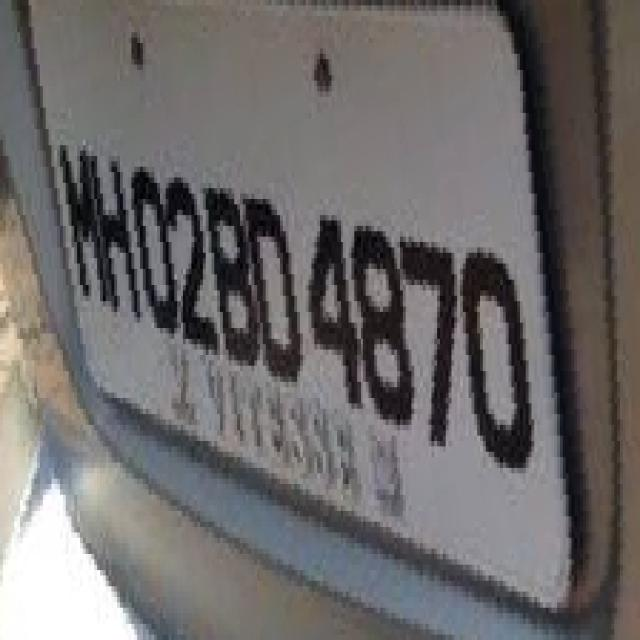license_plate: (29, 48, 637, 570)
